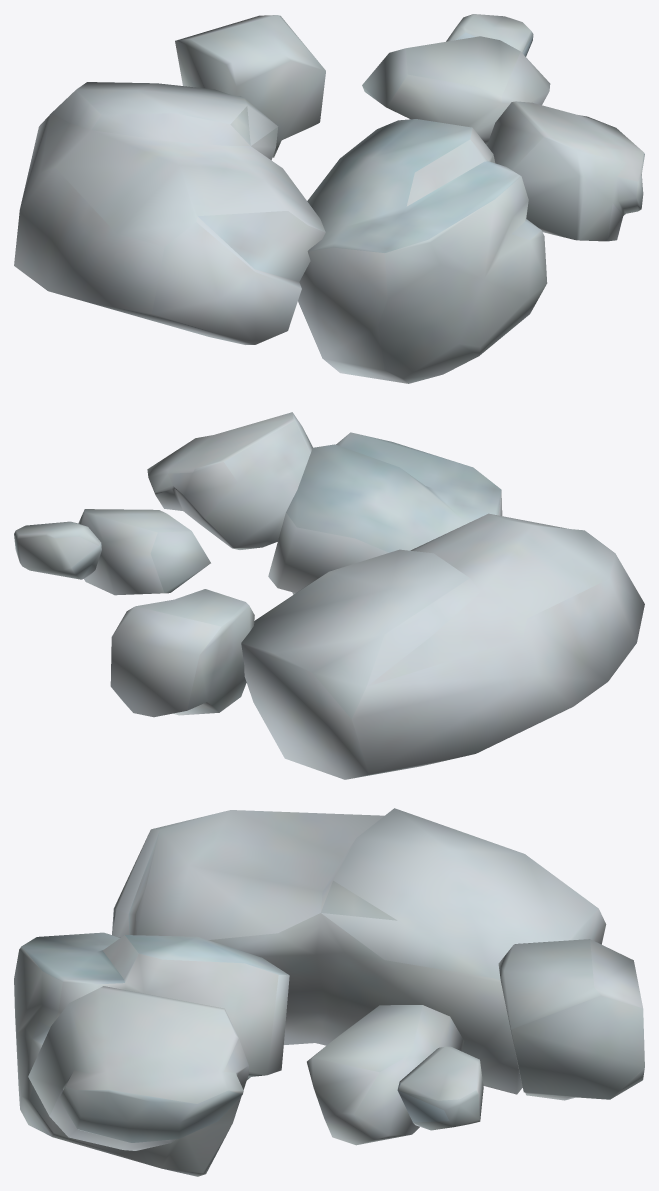
Rendered from P_RockSpire_RockClump04.obj.
The picture shows the model from 3 angles, top to bottom: view 1: azimuth 30°, elevation 25°; view 2: azimuth 150°, elevation 25°; view 3: azimuth 270°, elevation 25°; orthographic projection. The views are drawn at different scales.
Bounding box in the file's own units: 9.81 × 3.68 × 8.54.
